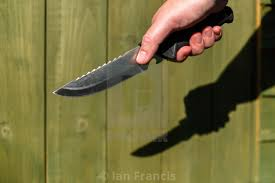knife: (51, 3, 235, 99)
